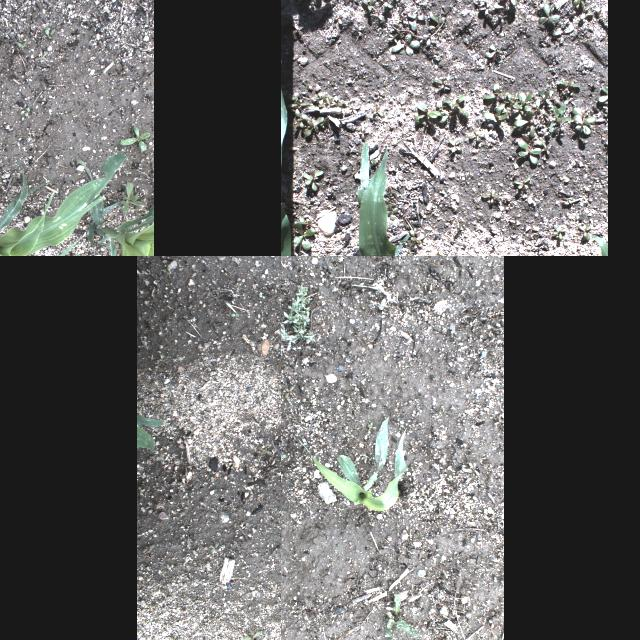crop: (281, 48, 479, 256), (356, 140, 570, 256), (0, 146, 125, 256), (298, 416, 408, 510), (78, 159, 153, 256), (138, 412, 164, 451), (594, 233, 608, 256)
weed: (281, 285, 317, 351), (102, 179, 144, 213), (386, 596, 420, 638), (116, 124, 154, 158), (516, 138, 542, 166), (390, 34, 420, 58), (292, 214, 312, 250), (572, 106, 594, 134), (442, 94, 466, 118), (302, 168, 324, 192), (414, 102, 436, 126), (482, 104, 508, 124), (538, 3, 562, 24), (406, 6, 426, 30), (302, 115, 324, 136), (550, 104, 570, 126), (484, 84, 510, 100), (512, 93, 534, 111), (408, 228, 427, 248), (428, 13, 447, 32), (290, 98, 310, 116), (444, 138, 464, 156), (596, 84, 608, 112), (558, 78, 580, 92), (484, 45, 502, 61), (433, 74, 451, 90), (526, 126, 542, 144), (538, 88, 552, 108), (468, 128, 484, 144), (432, 110, 453, 122), (553, 222, 567, 240), (578, 224, 592, 242), (242, 628, 263, 640), (479, 1, 496, 15), (578, 6, 594, 20), (514, 177, 530, 191), (344, 102, 360, 115), (388, 202, 398, 222), (40, 26, 54, 40), (422, 32, 436, 46), (360, 0, 376, 12), (292, 20, 304, 36), (311, 94, 327, 106), (357, 123, 369, 139), (512, 120, 536, 128), (323, 97, 342, 107), (501, 0, 525, 7), (371, 106, 385, 118), (481, 192, 502, 200), (514, 111, 534, 119), (534, 97, 544, 113), (543, 142, 553, 156), (284, 385, 294, 399), (572, 0, 587, 9), (343, 0, 358, 9), (313, 0, 331, 7), (461, 36, 473, 46), (376, 0, 391, 8), (387, 34, 397, 42), (386, 188, 396, 196), (547, 122, 555, 132), (372, 92, 386, 96), (368, 422, 377, 428), (432, 252, 444, 256), (312, 398, 316, 406), (300, 398, 306, 402), (348, 432, 354, 436)
